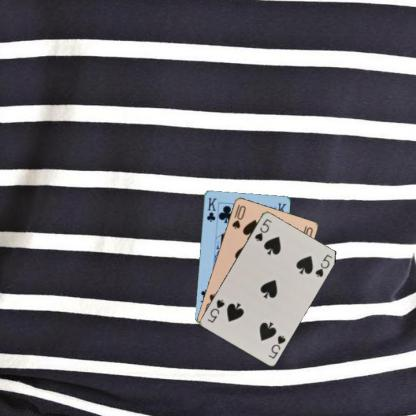10s: (229, 202, 247, 230)
5s: (252, 216, 273, 243), (266, 332, 286, 360)
Kc: (204, 195, 218, 223)
